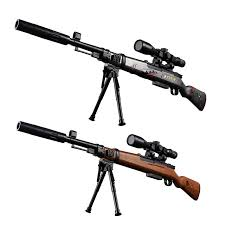gun: (13, 16, 207, 129), (15, 118, 201, 217)
